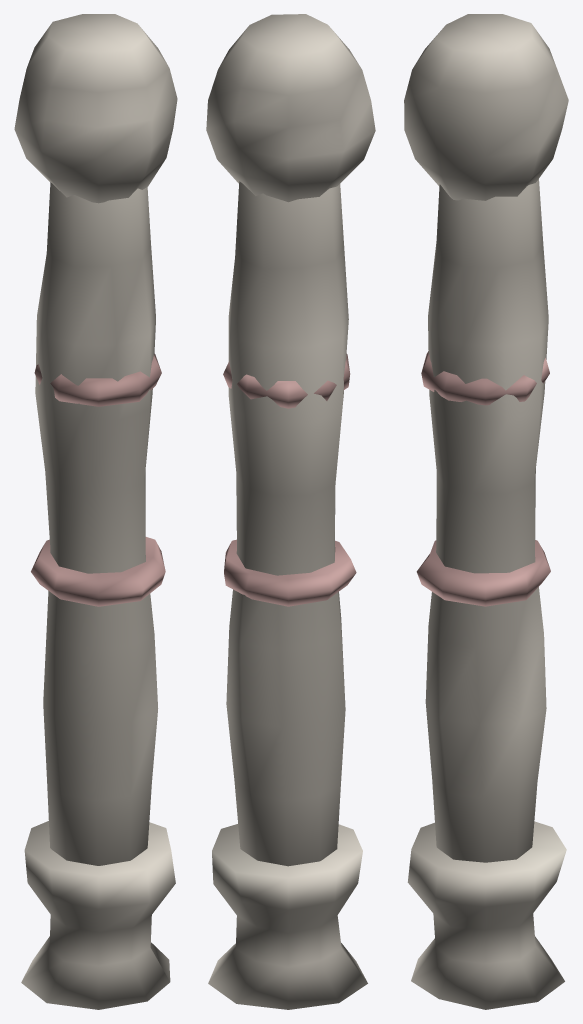
Rendered from bone-pillar.glb.
3 renders of one model, left to right at view 1: azimuth 30°, elevation 25°; view 2: azimuth 150°, elevation 25°; view 3: azimuth 270°, elevation 25°, orthographic.
Visible parts, largest first — view 1: body; view 2: body; view 3: body.
Part boxes in pixels (bbox=[...]): body: bbox=[14, 14, 177, 1009]; body: bbox=[206, 14, 375, 1009]; body: bbox=[404, 14, 568, 1009].
Size of what is drawn, in the model's own units: 0.3386 by 2.14 by 0.3393.
